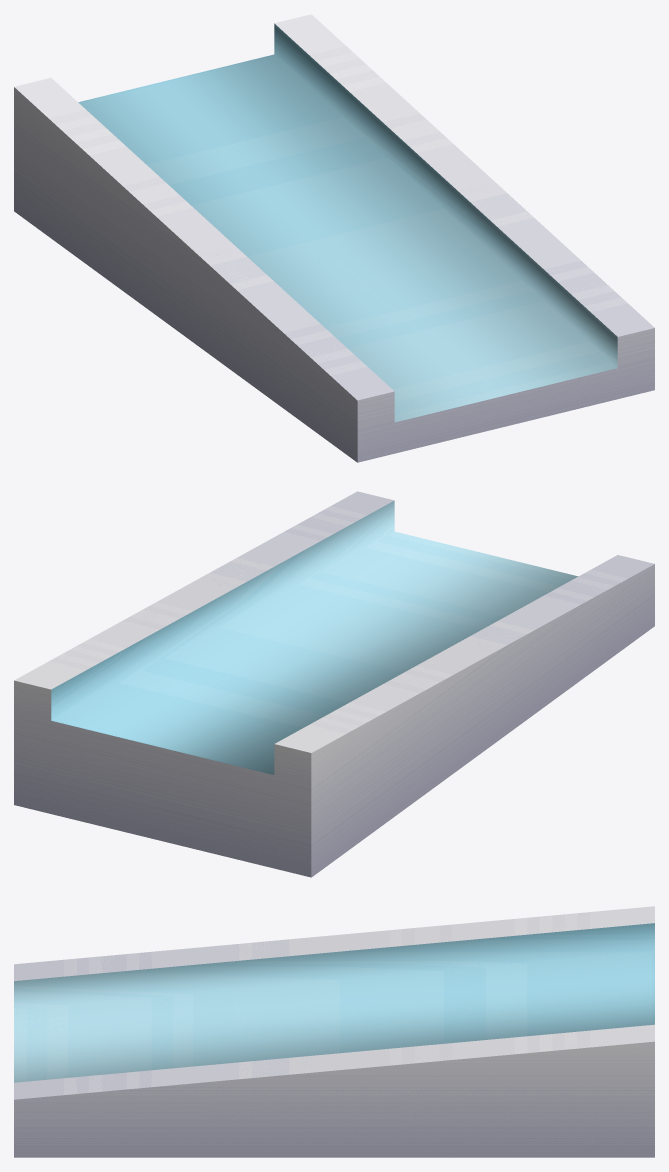
The model's file is snow-tile-straight-slope-large.glb.
3 views of the same model, one above another, from view 1: azimuth 30°, elevation 25°; view 2: azimuth 150°, elevation 25°; view 3: azimuth 270°, elevation 25° (orthographic). The views are drawn at different scales.
Parts seen in each view (by area): view 1: snow-tile-straight-slope-large; view 2: snow-tile-straight-slope-large; view 3: snow-tile-straight-slope-large.
Boxes of the visible parts, x1,y1,x2,y2 form: snow-tile-straight-slope-large: (14,14,654,462); snow-tile-straight-slope-large: (14,491,654,877); snow-tile-straight-slope-large: (14,906,654,1157).
Size of the model in its own units: 1 by 0.4 by 2.
Materials: 1 (1 with a texture image).
